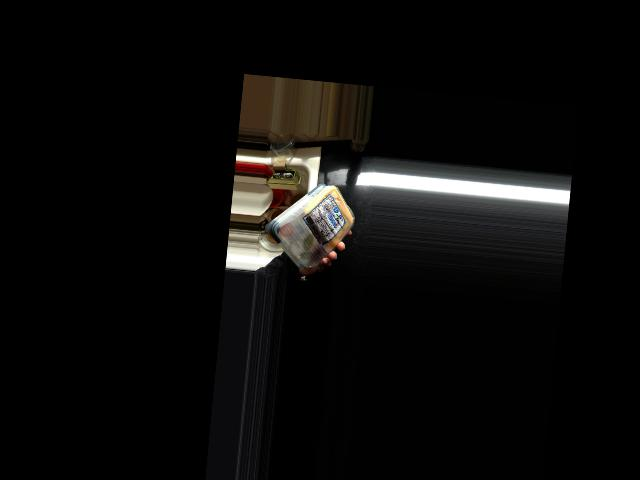cheese: (274, 179, 352, 272)
